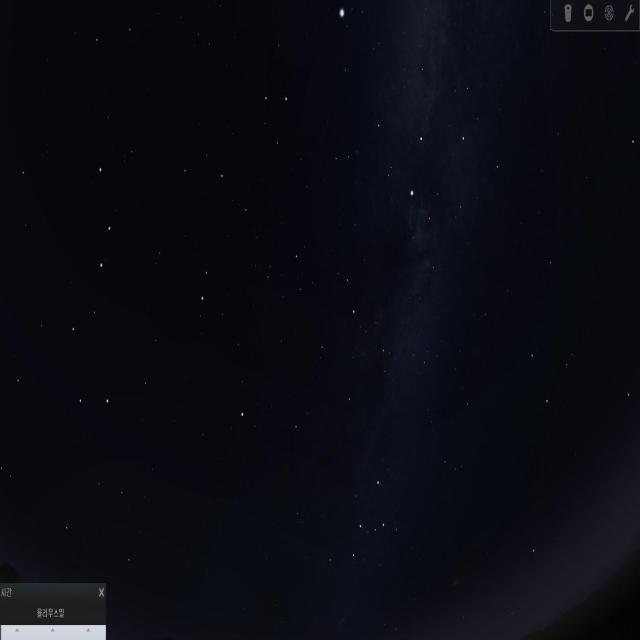cassiopeia: (317, 469, 402, 579)
cygnus: (371, 34, 468, 207)
ursa_major: (58, 146, 150, 404)
